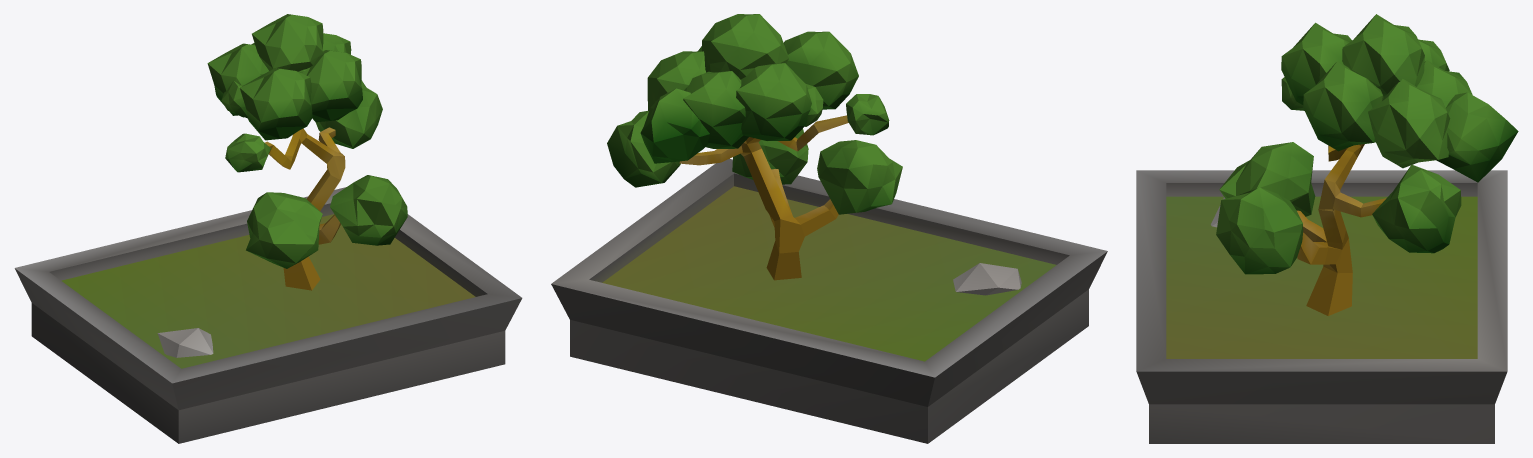
File: BonsaiTree.glb
The picture shows the model from 3 angles, left to right: view 1: azimuth 30°, elevation 25°; view 2: azimuth 150°, elevation 25°; view 3: azimuth 270°, elevation 25°; orthographic projection. The views are drawn at different scales.
Visible parts, largest first — view 1: Tree; view 2: Tree; view 3: Tree.
Boxes of the visible parts, bbox=[...] form: Tree: bbox=[14, 14, 522, 443]; Tree: bbox=[551, 14, 1107, 443]; Tree: bbox=[1136, 14, 1518, 443].
Bounding box in the file's own units: 1.38 × 1.15 × 1.1.
